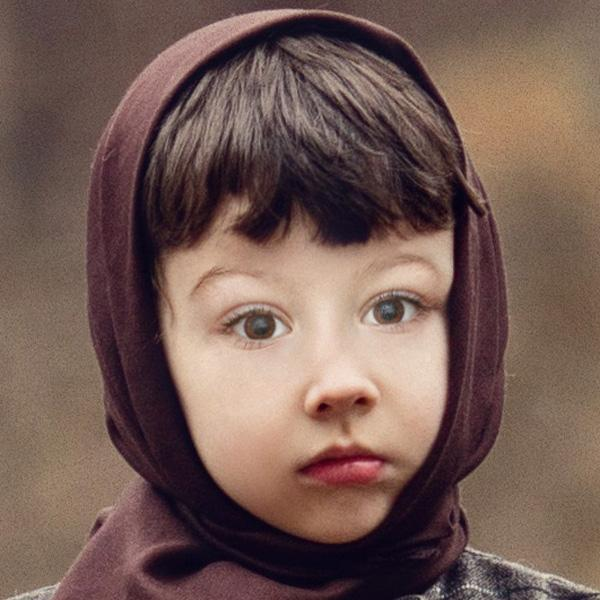Eyes: (211, 293, 304, 358), (351, 277, 443, 342)
